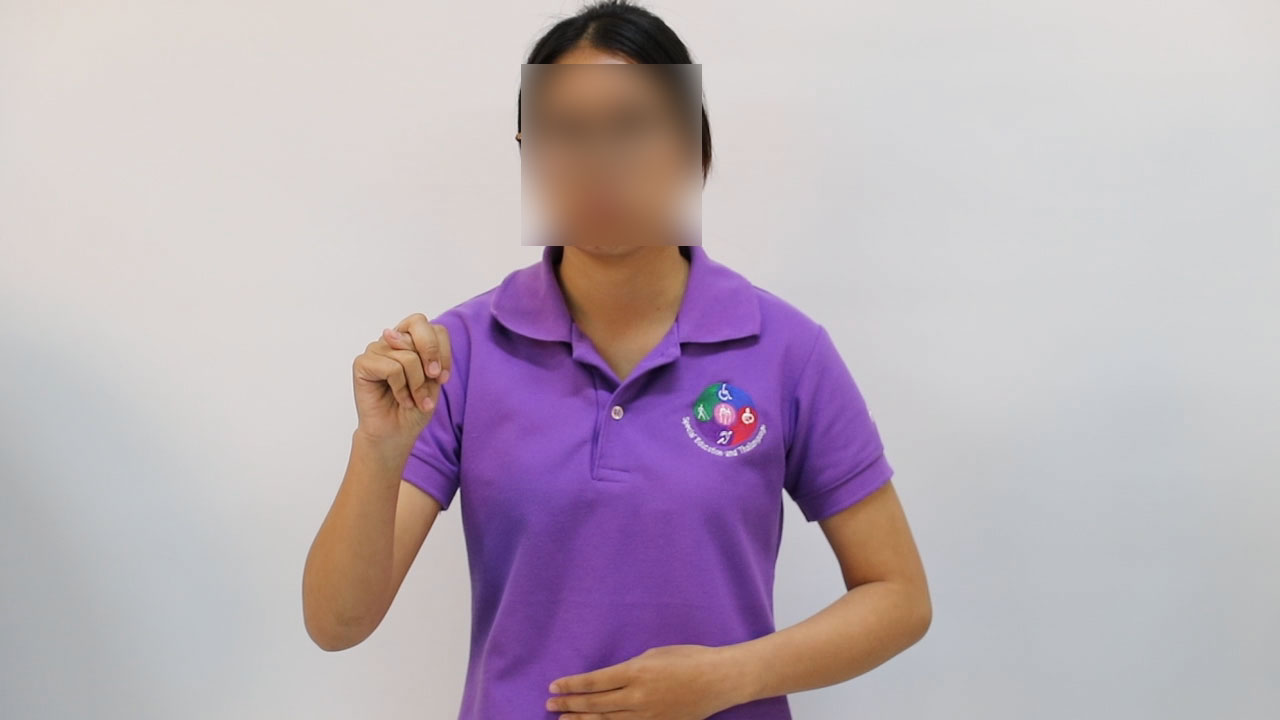nor: (335, 303, 462, 440)
